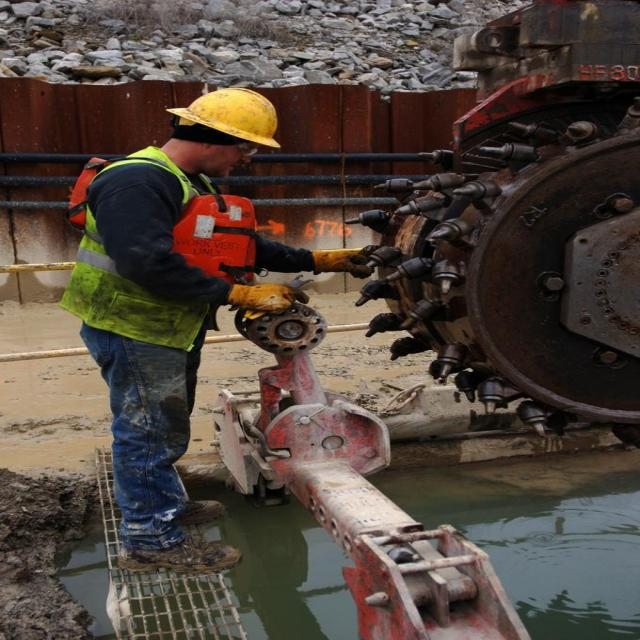vest: (77, 139, 235, 374)
